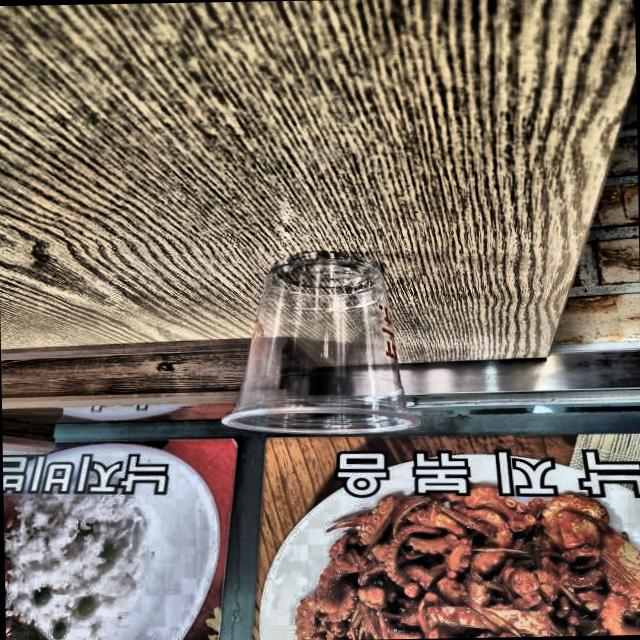plastic cup: (213, 244, 428, 442)
